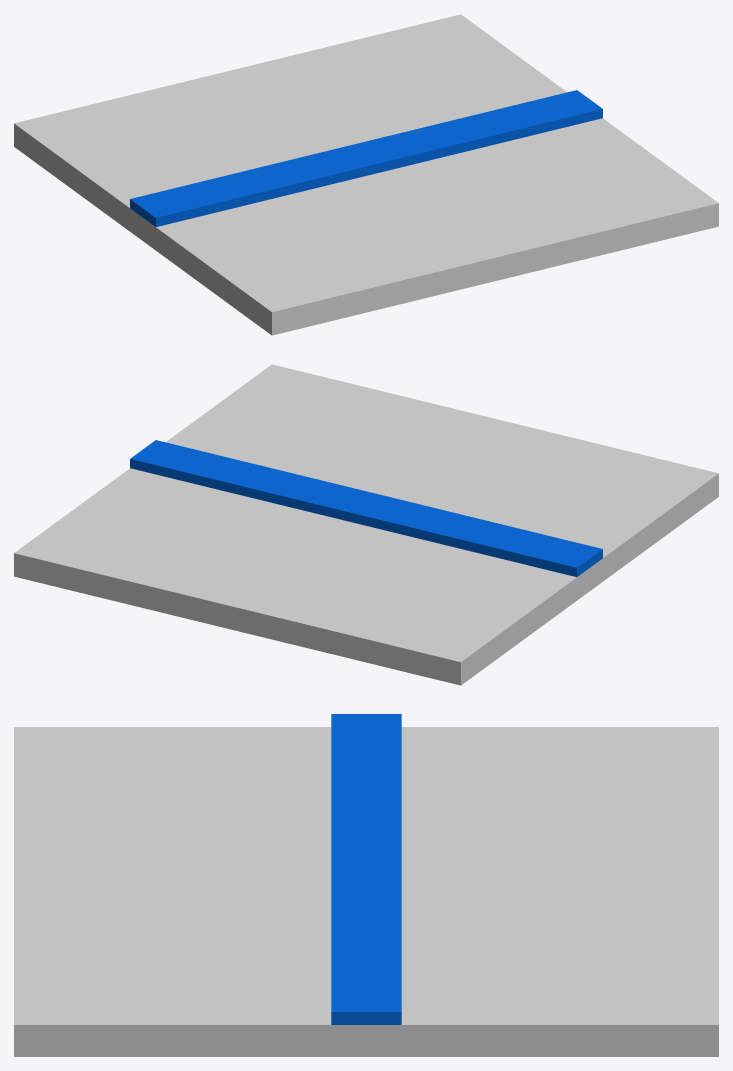
Rendered from 3DTile1.fbx.
3 renders of one model, top to bottom at view 1: azimuth 30°, elevation 25°; view 2: azimuth 150°, elevation 25°; view 3: azimuth 270°, elevation 25°, orthographic. The views are drawn at different scales.
Parts seen in each view (by area): view 1: Plane; view 2: Plane; view 3: Plane.
Boxes of the visible parts, bbox=[...] form: Plane: bbox=[14, 14, 718, 335]; Plane: bbox=[14, 364, 718, 685]; Plane: bbox=[14, 714, 718, 1056].
Size of the model in its own units: 20000 by 1400 by 20000.
